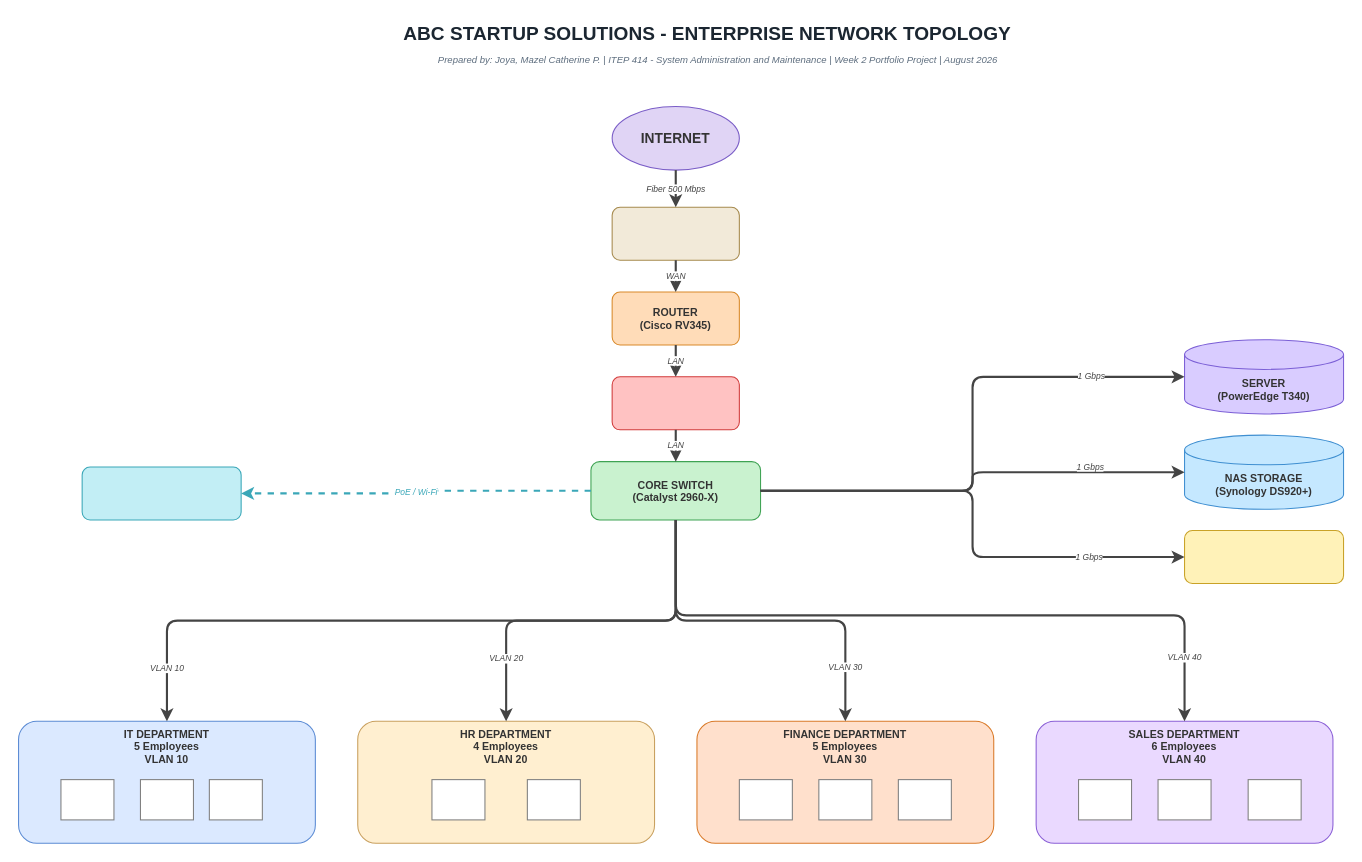
The diagram is 1362 pixels wide and 862 high, and some of its shapes have lost their labels. The centre of each missing label's shape, as x and y in pixels:
FIREWALL (pfSense): the point at 675,403
ISP MODEM (Fiber ONT): the point at 675,233
PRINTER (HP M404dn): the point at 1263,556
WIRELESS AP (Aironet 1850i): the point at 161,493
